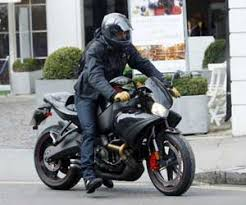helmet: (100, 13, 133, 47)
